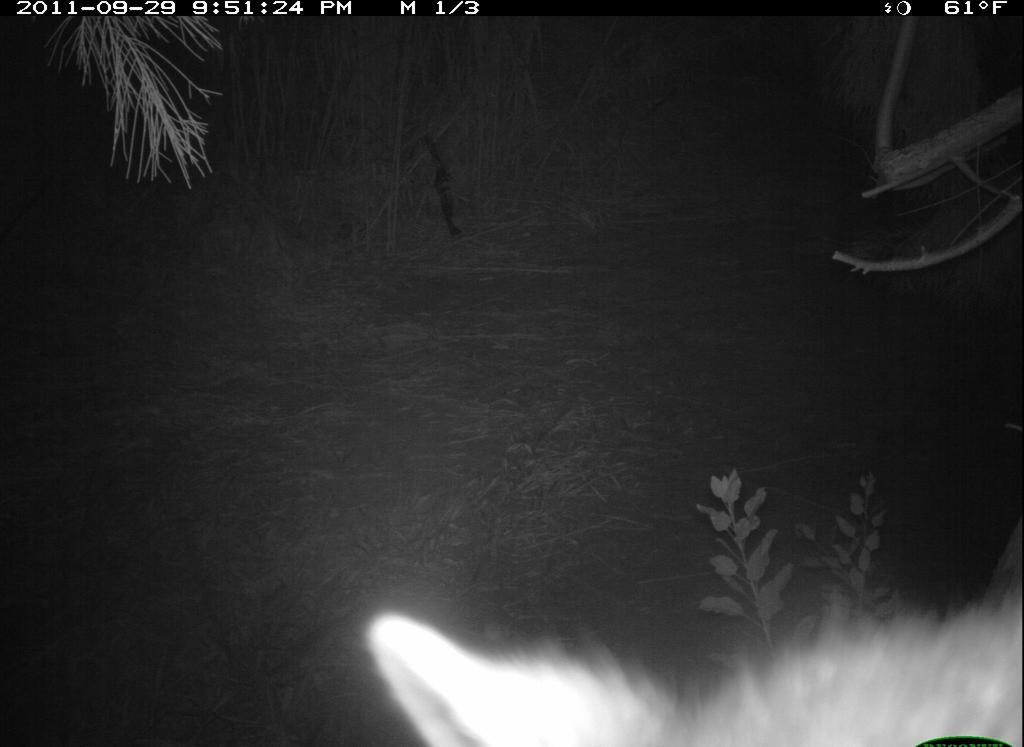raccoon: (353, 569, 1023, 715)
